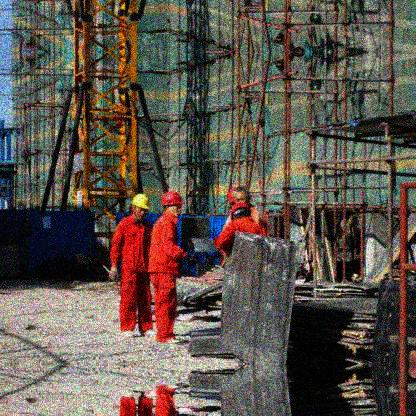helmet: (132, 194, 153, 221), (163, 193, 184, 218), (229, 204, 250, 219)
